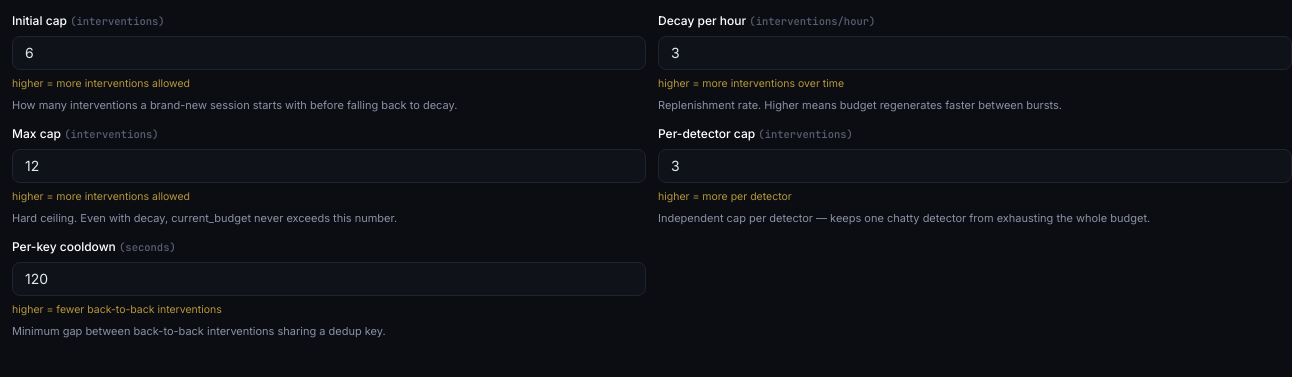
Test: NurseBudgetEditor validation › rejects max_cap < initial_cap and surfaces an inline error
Knock max_cap below initial_cap (initial is 6 — set max to 4).
Replace the text in the number field named "Max cap" with "4" at (329, 166), box [25,156,633,176]
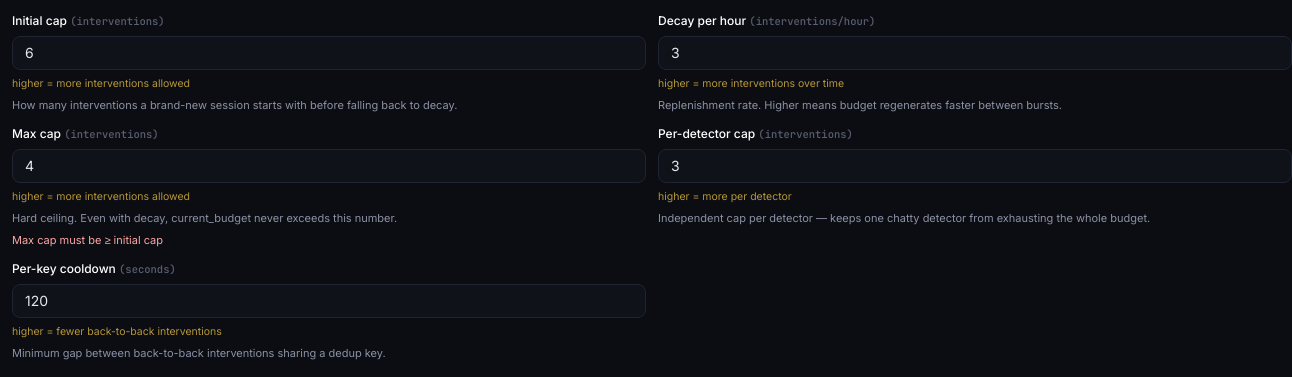
Now the message with test id "nurse-budget-error" shows "initial cap", box [12,233,163,247]
